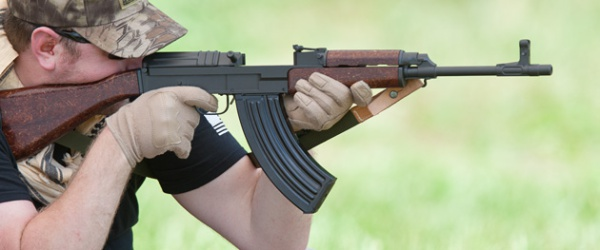ak47: (1, 39, 552, 214)
